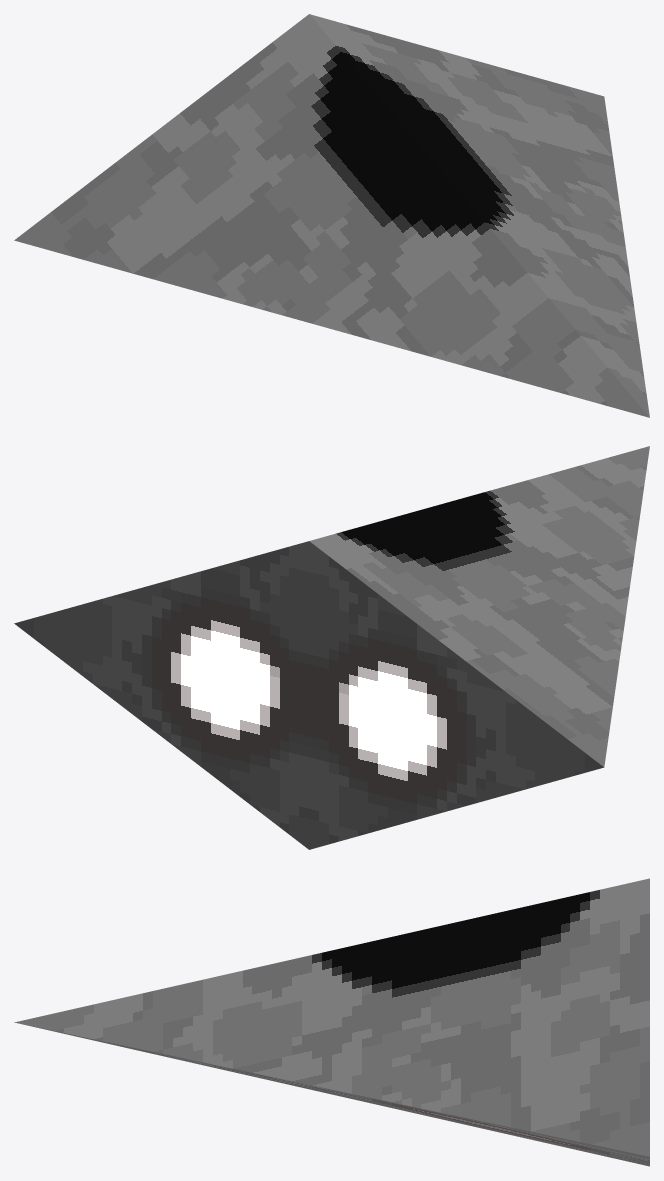
File: fighter.glb
3 views of the same model, one above another, from view 1: azimuth 30°, elevation 25°; view 2: azimuth 150°, elevation 25°; view 3: azimuth 270°, elevation 25° (orthographic). The views are drawn at different scales.
Visible parts, largest first — view 1: Cube; view 2: Cube; view 3: Cube.
Part boxes in pixels (x1=…): Cube: x1=14, y1=14, x2=649, y2=417; Cube: x1=14, y1=446, x2=649, y2=849; Cube: x1=14, y1=878, x2=649, y2=1166.
Size of the model in its own units: 2 by 1 by 2.
Materials: 1 (1 with a texture image).
